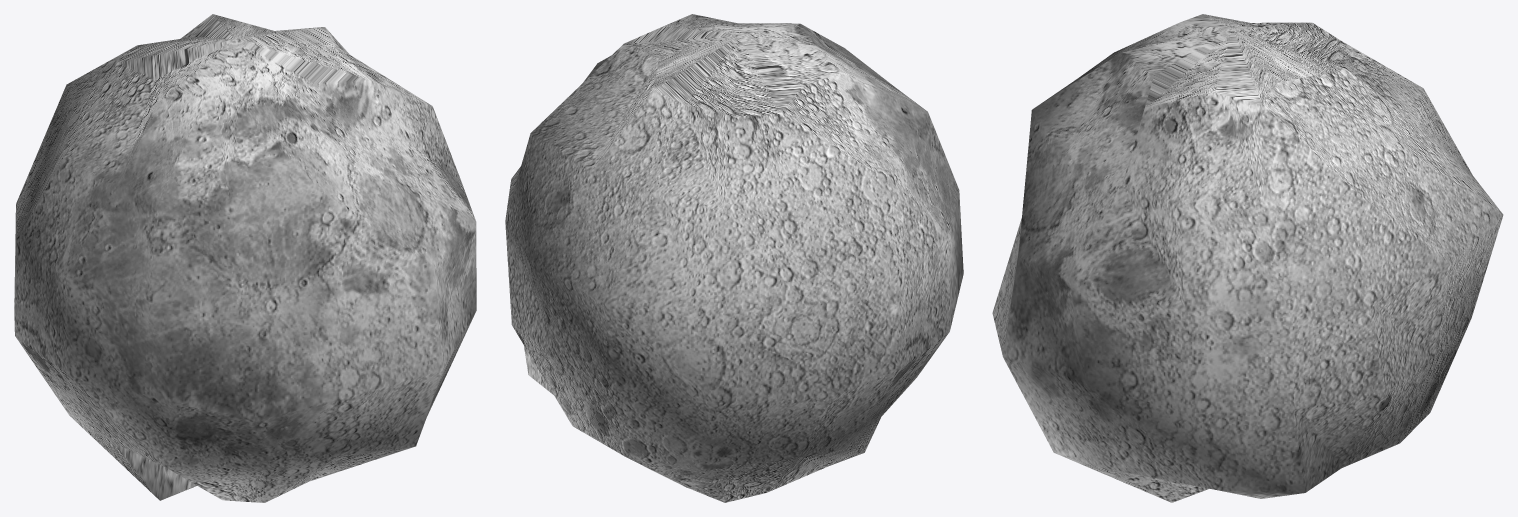
File: stone.FBX
3 views of the same model, side by side, from view 1: azimuth 30°, elevation 25°; view 2: azimuth 150°, elevation 25°; view 3: azimuth 270°, elevation 25° (orthographic). The views are drawn at different scales.
Visible parts, largest first — view 1: Sphere001; view 2: Sphere001; view 3: Sphere001.
Part boxes in pixels (box(x1,y1,x2,y2)): Sphere001: box(14, 14, 476, 502); Sphere001: box(505, 14, 963, 502); Sphere001: box(992, 14, 1503, 502).
Bounding box in the file's own units: 7.83 × 8.21 × 8.53.
Materials: 1 (1 with a texture image).
